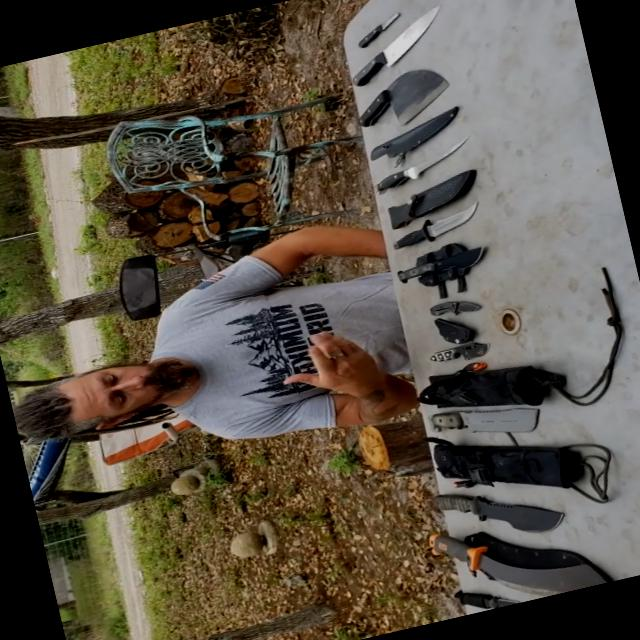knife: (414, 498, 604, 622), (420, 459, 578, 562), (320, 0, 463, 94), (416, 374, 560, 462), (331, 63, 449, 143), (384, 225, 508, 294), (360, 132, 480, 198), (430, 558, 544, 620), (374, 196, 490, 256), (408, 328, 507, 380), (342, 5, 418, 51), (413, 289, 489, 331)
